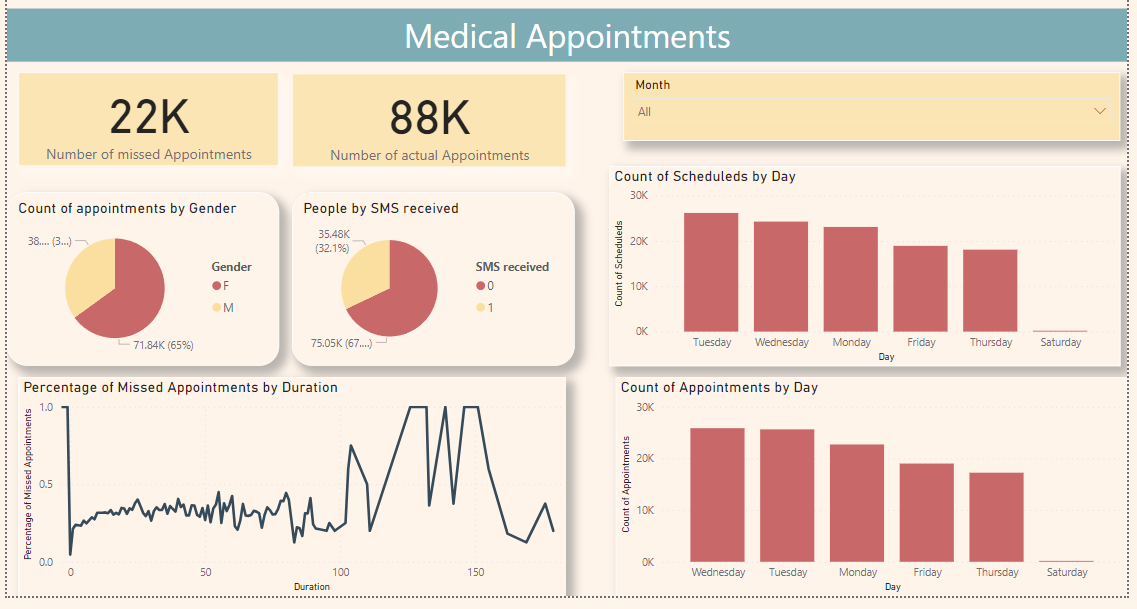

The page's visual inventory and layout, read from the dashboard file:
{"tool":"powerbi","page":{"name":"Page 1","canvas":[1280,720],"ordinal":0},"visuals":[{"type":"pieChart","fields":{"Y":["CountNonNull(Medical_Appointments_Data.Gender)"],"Category":["Medical_Appointments_Data.Gender"]},"box":[0,258.2,310.9,198.7],"z":0},{"type":"textbox","box":[0,48.7,1280.3,60.8],"z":1000},{"type":"pieChart","fields":{"Category":["Medical_Appointments_Data.SMS_received"],"Y":["CountNonNull(Medical_Appointments_Data.SMS_received)"]},"box":[325.8,258.2,323.1,198.7],"z":2000},{"type":"lineChart","fields":{"Category":["Data.Duration"],"Y":["Data.Percentage of Missed Appointments"]},"box":[13.5,470.5,625.9,250.1],"z":3000},{"type":"clusteredColumnChart","fields":{"Category":["Data.ScheduledDay_Name"],"Y":["CountNonNull(Data.ScheduledDay_Name)"]},"box":[688.1,228.5,584,228.5],"z":4000},{"type":"clusteredColumnChart","fields":{"Category":["Data.AppointmentDay_Name"],"Y":["CountNonNull(Data.AppointmentDay_Name)"]},"box":[696.2,470.5,584,250.1],"z":5000},{"type":"slicer","fields":{"Values":["Data.AppointmentDay.Variation.Date Hierarchy.Month"]},"box":[704.4,121.7,567.8,78.4],"z":6000},{"type":"card","fields":{"Values":["Data.Number of missed Appointments"]},"box":[13.5,121.7,297.4,106.8],"z":7000},{"type":"card","fields":{"Values":["Data.Number of actual Appointments"]},"box":[325.8,123,313.6,106.8],"z":8000}]}

Visuals, with their boxes in screenshot pixels (x1, y1, x2, y2):
pieChart - CountNonNull(Medical_Appointments_Data.Gender) x Medical_Appointments_Data.Gender: box(18, 188, 287, 360)
textbox: box(18, 7, 1127, 59)
pieChart - Medical_Appointments_Data.SMS_received x CountNonNull(Medical_Appointments_Data.SMS_received): box(300, 188, 580, 360)
lineChart - Data.Duration x Data.Percentage of Missed Appointments: box(29, 372, 572, 589)
clusteredColumnChart - Data.ScheduledDay_Name x CountNonNull(Data.ScheduledDay_Name): box(614, 162, 1120, 360)
clusteredColumnChart - Data.AppointmentDay_Name x CountNonNull(Data.AppointmentDay_Name): box(621, 372, 1127, 589)
slicer - Data.AppointmentDay.Variation.Date Hierarchy.Month: box(628, 70, 1120, 138)
card - Data.Number of missed Appointments: box(29, 70, 287, 162)
card - Data.Number of actual Appointments: box(300, 71, 572, 164)
